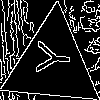Y: (27, 38, 71, 77)
